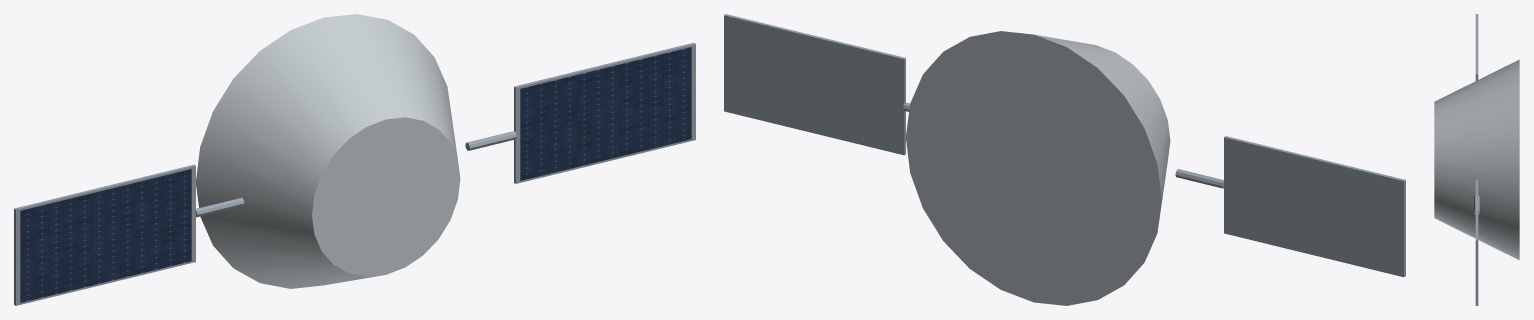
Rendered from ref-cygnss-41884.glb.
3 renders of one model, left to right at view 1: azimuth 30°, elevation 25°; view 2: azimuth 150°, elevation 25°; view 3: azimuth 270°, elevation 25°, orthographic. The views are drawn at different scales.
Visible parts, largest first — view 1: Spacecraft body, Photovoltaic laminates (×2), Array frame (×2), Solar array drive; view 2: Spacecraft body, Array frame (×2); view 3: Spacecraft body, Array frame (×2), Solar array drive.
Boxes of the visible parts, x1=… form: Spacecraft body: x1=196, y1=14, x2=460, y2=288; Photovoltaic laminates (×2): x1=20, y1=47, x2=691, y2=302; Array frame (×2): x1=14, y1=42, x2=695, y2=305; Solar array drive: x1=465, y1=131, x2=516, y2=150; Spacecraft body: x1=905, y1=31, x2=1170, y2=305; Array frame (×2): x1=724, y1=14, x2=1405, y2=277; Spacecraft body: x1=1434, y1=59, x2=1519, y2=260; Array frame (×2): x1=1475, y1=14, x2=1478, y2=305; Solar array drive: x1=1474, y1=195, x2=1479, y2=215.
Size of the model in its own units: 1.7 by 0.64 by 0.27.
Materials: 3 (1 with a texture image).
